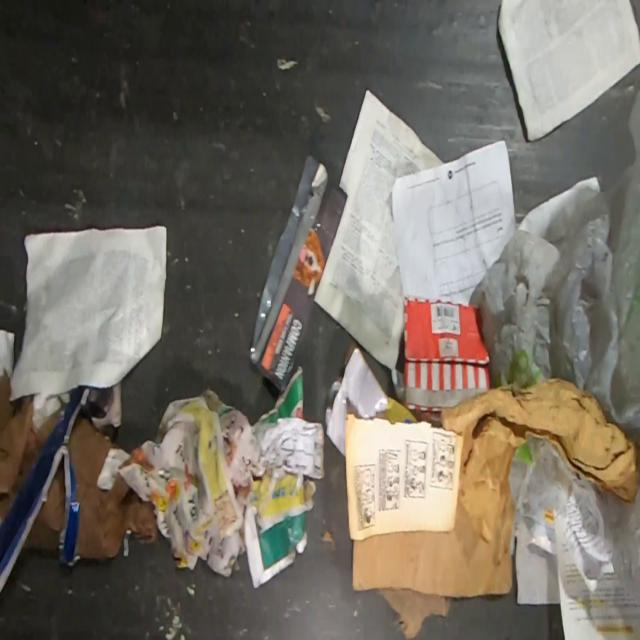cardboard: (352, 376, 640, 598), (326, 345, 463, 541), (0, 385, 93, 604), (390, 297, 490, 410), (25, 455, 66, 552), (378, 591, 453, 639)
soft_plastic: (469, 86, 639, 468), (251, 153, 345, 397), (510, 436, 640, 593)
